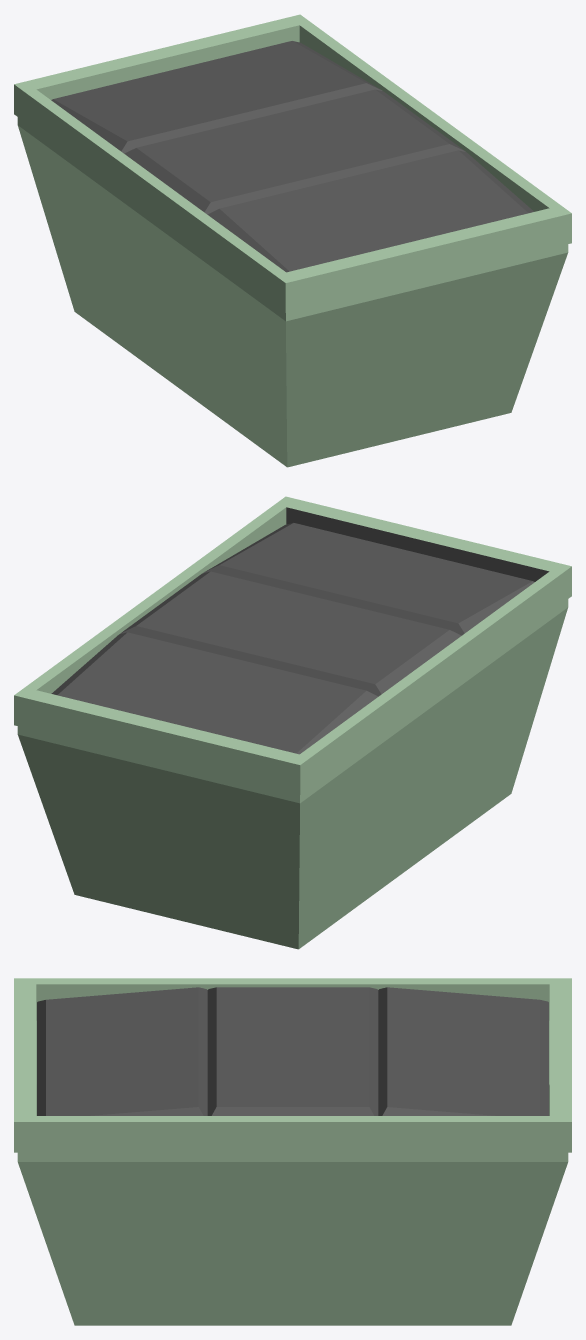
The model's file is Dumpster.fbx.
The picture shows the model from 3 angles, top to bottom: view 1: azimuth 30°, elevation 25°; view 2: azimuth 150°, elevation 25°; view 3: azimuth 270°, elevation 25°; orthographic projection. The views are drawn at different scales.
Parts seen in each view (by area): view 1: Plane.024; view 2: Plane.024; view 3: Plane.024.
Part boxes in pixels (left/top/right/bottom): Plane.024: left=14, top=14, right=571, bottom=467; Plane.024: left=14, top=496, right=571, bottom=949; Plane.024: left=14, top=978, right=571, bottom=1325.
Size of the model in its own units: 129 by 93.16 by 212.
